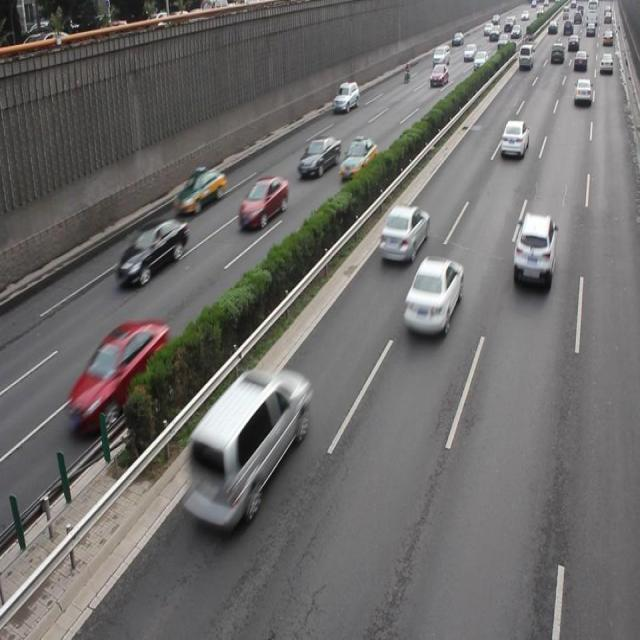car: (65, 318, 168, 433), (116, 215, 187, 288), (402, 255, 462, 336), (512, 212, 555, 288), (377, 203, 427, 264), (238, 174, 288, 230), (173, 167, 225, 217), (297, 135, 340, 179), (338, 139, 377, 180), (499, 119, 528, 158), (332, 80, 359, 112)
truck: (181, 366, 308, 532)
